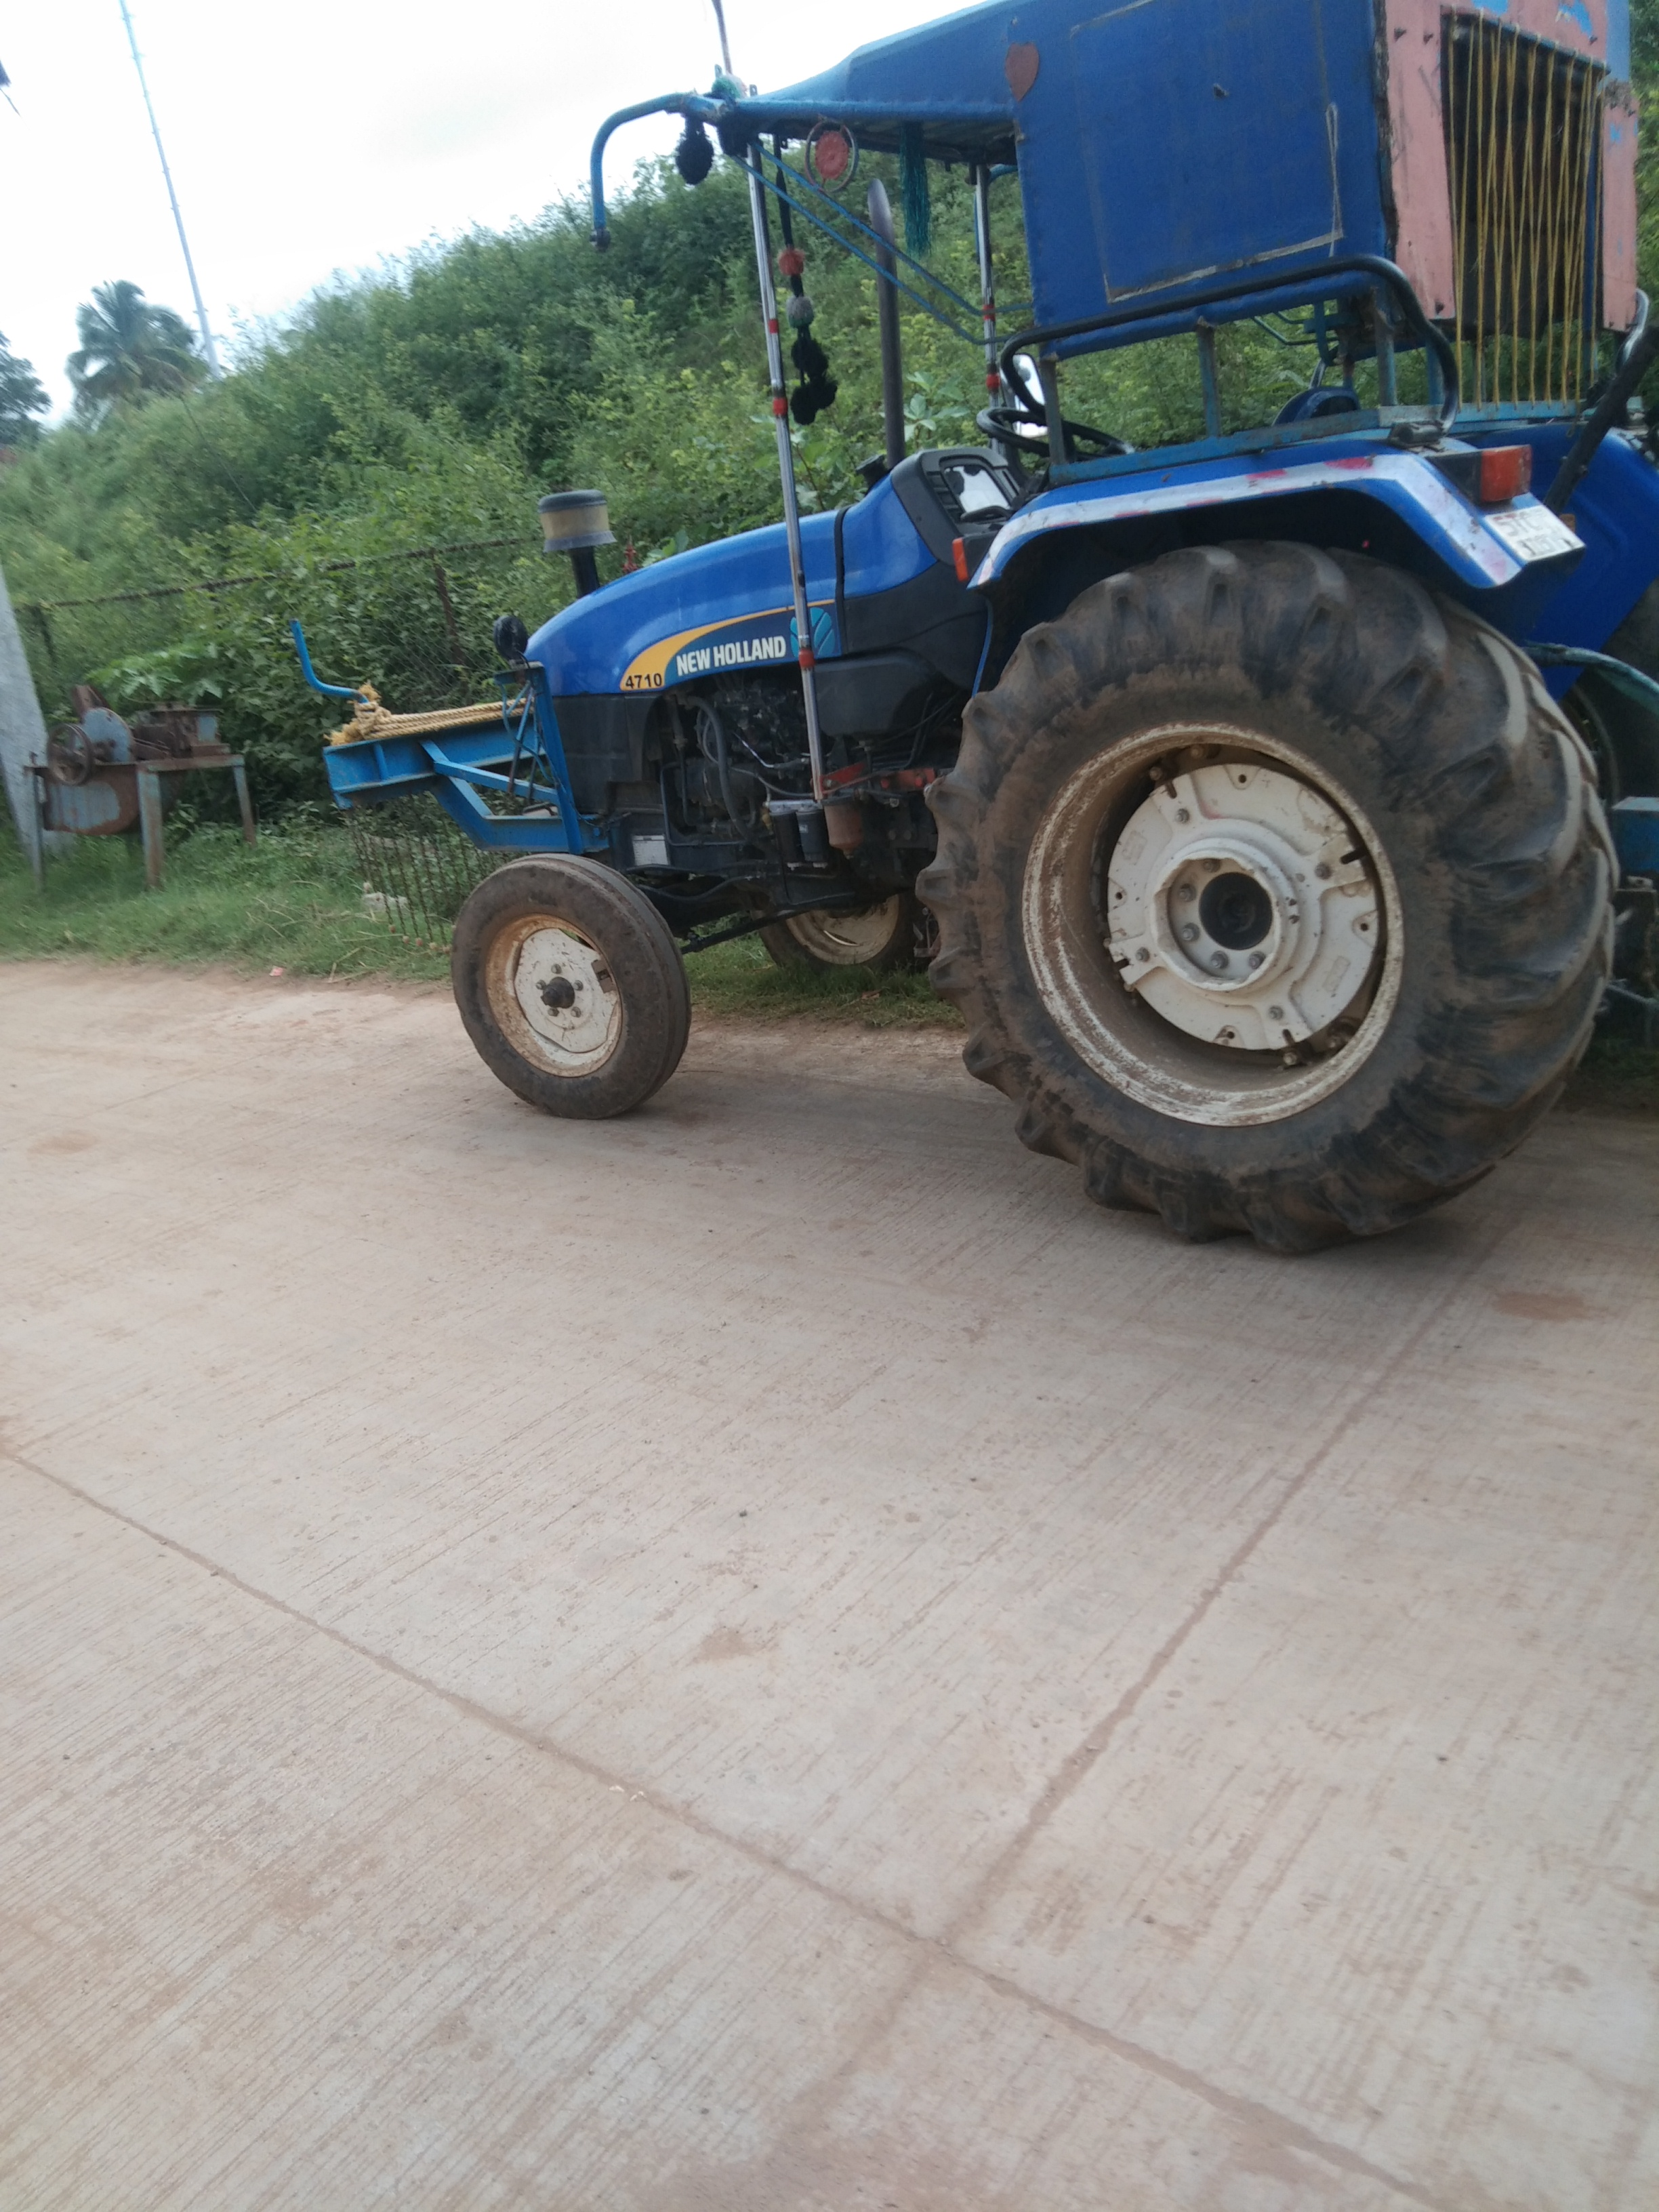tractor: (277, 0, 1659, 1263)
